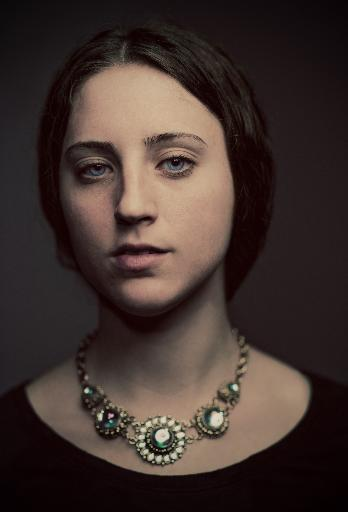left_eye: (155, 154, 202, 183)
left_lip_corner: (161, 243, 179, 265)
right_eye: (76, 162, 117, 186)
right_lip_corner: (106, 250, 119, 269)
